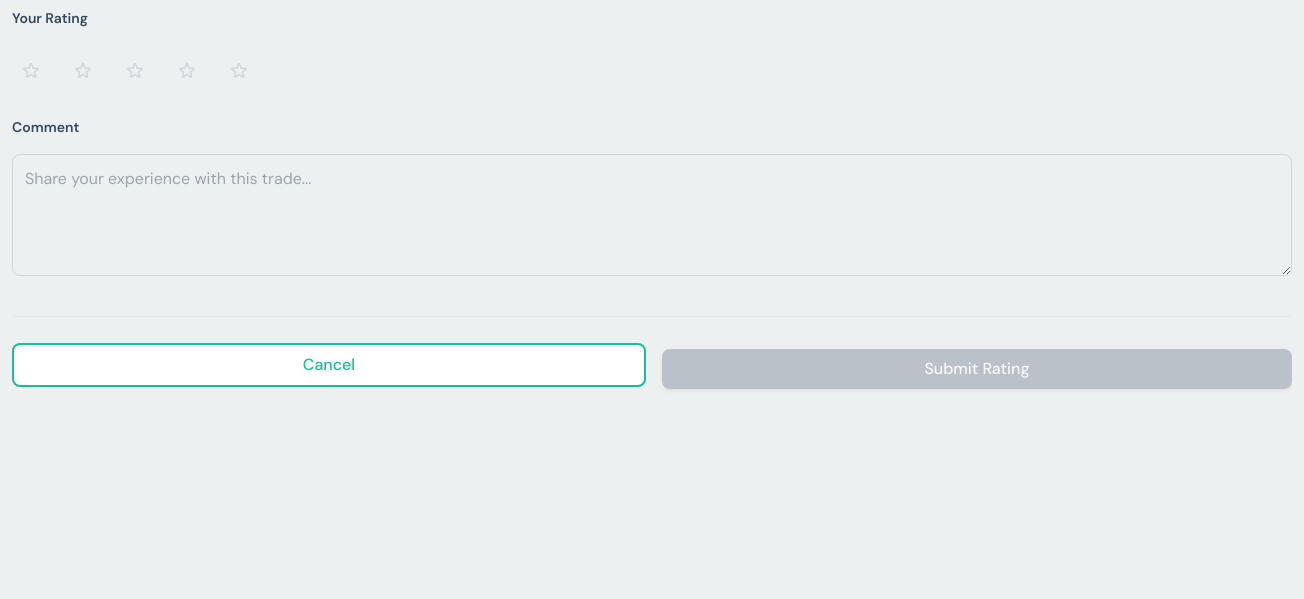
RatingForm › Error Handling › displays error message when submission fails
Select 4 stars
Click the button named "rate 4 star".
click(190, 71)  # box top-left (168, 49), bottom-right (212, 93)
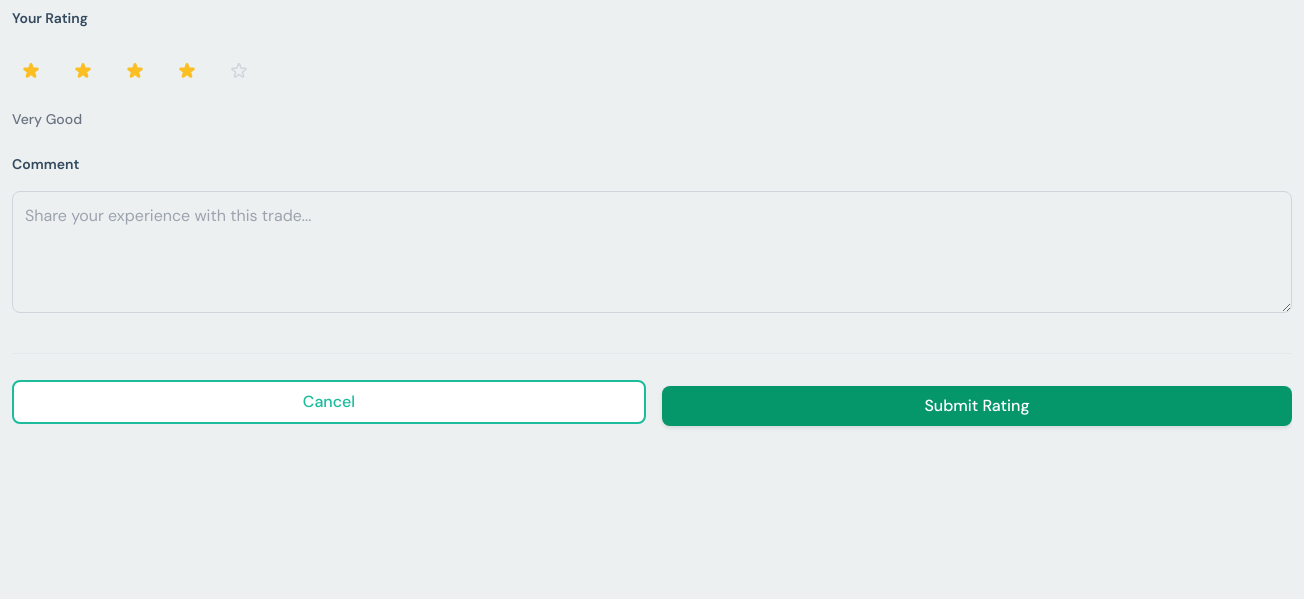
Click the button "Submit Rating".
click(977, 406)  # box top-left (662, 386), bottom-right (1292, 426)
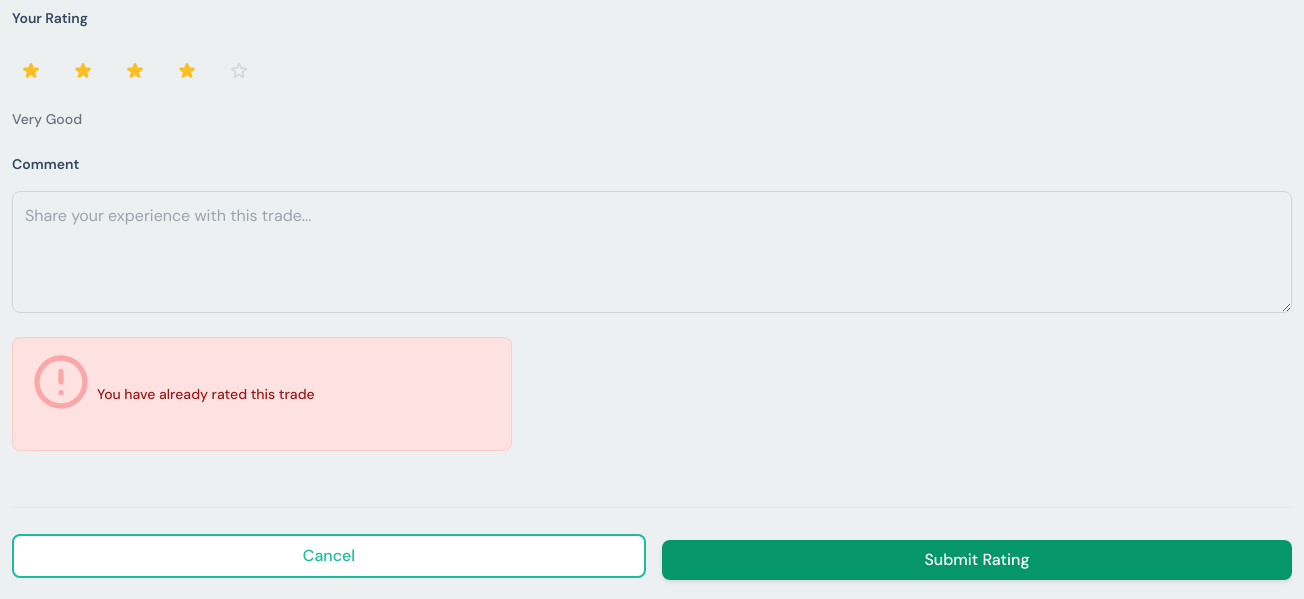
Now the text "You have already rated this trade" is shown, box top-left (12, 337), bottom-right (512, 451)
